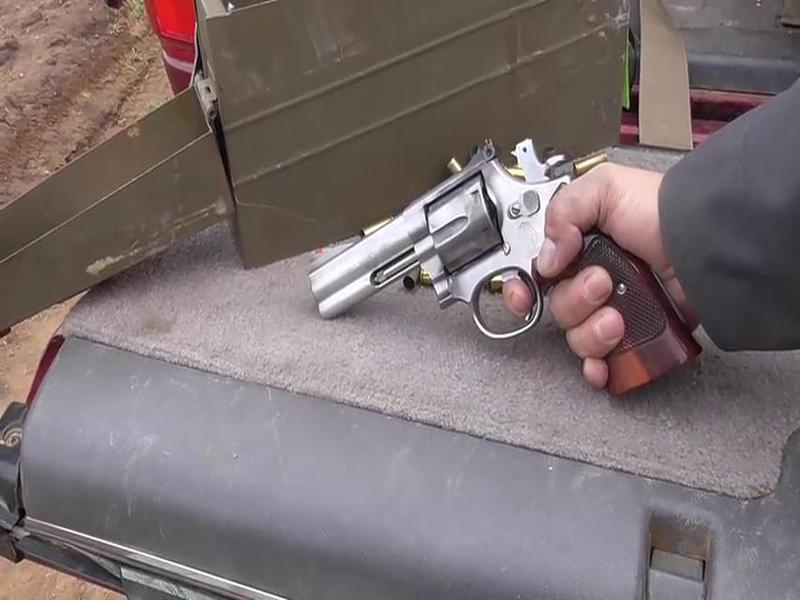Revolver: (295, 121, 705, 398)
